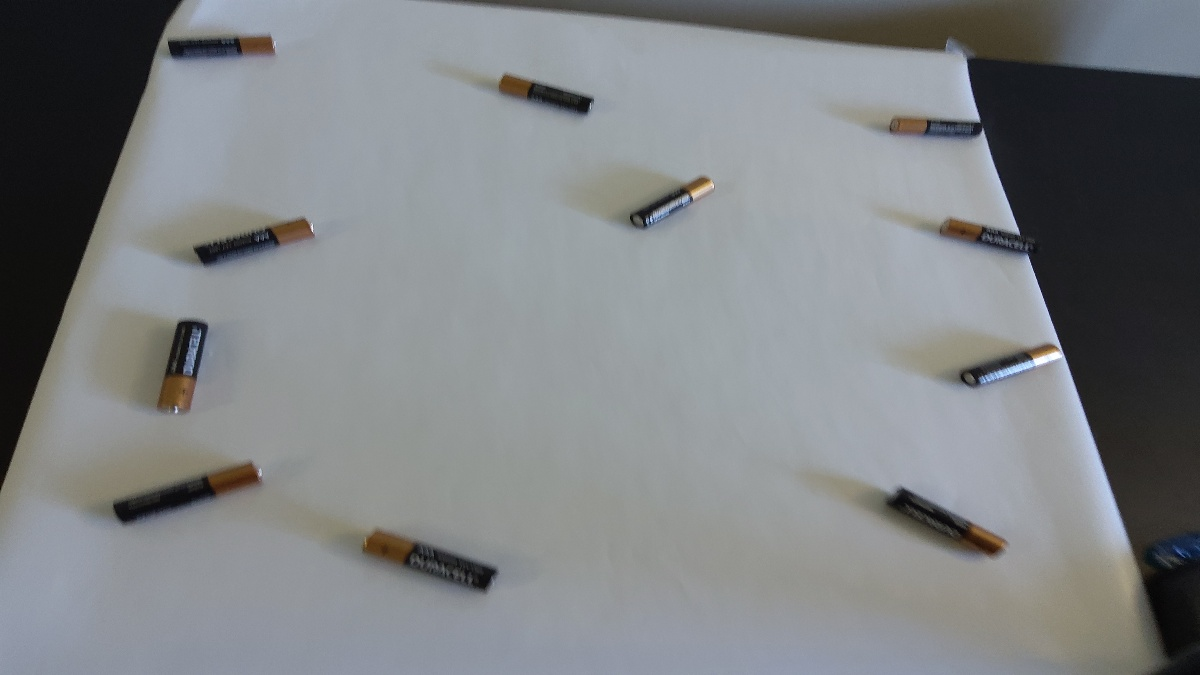battery: (338, 507, 519, 603), (107, 444, 276, 532), (880, 474, 1019, 567), (177, 202, 328, 274), (138, 302, 220, 423), (941, 325, 1067, 398), (487, 66, 605, 124), (632, 162, 721, 238), (163, 27, 289, 71), (935, 210, 1036, 260), (869, 108, 992, 143)
